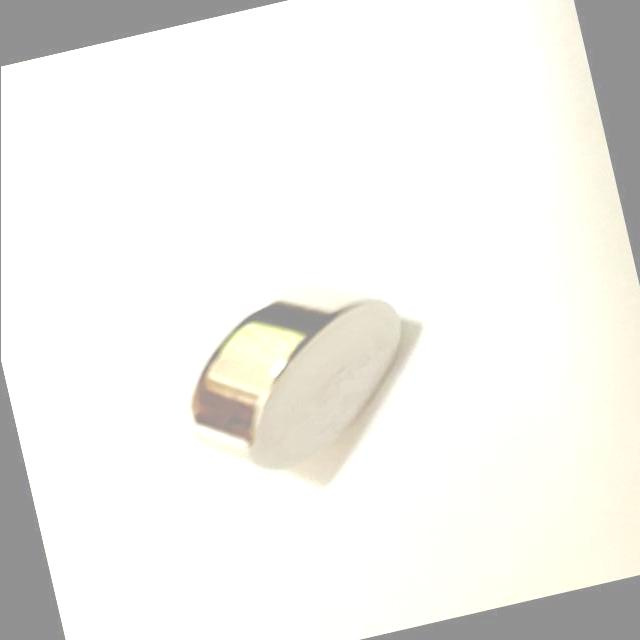COIN: (161, 264, 430, 491)
